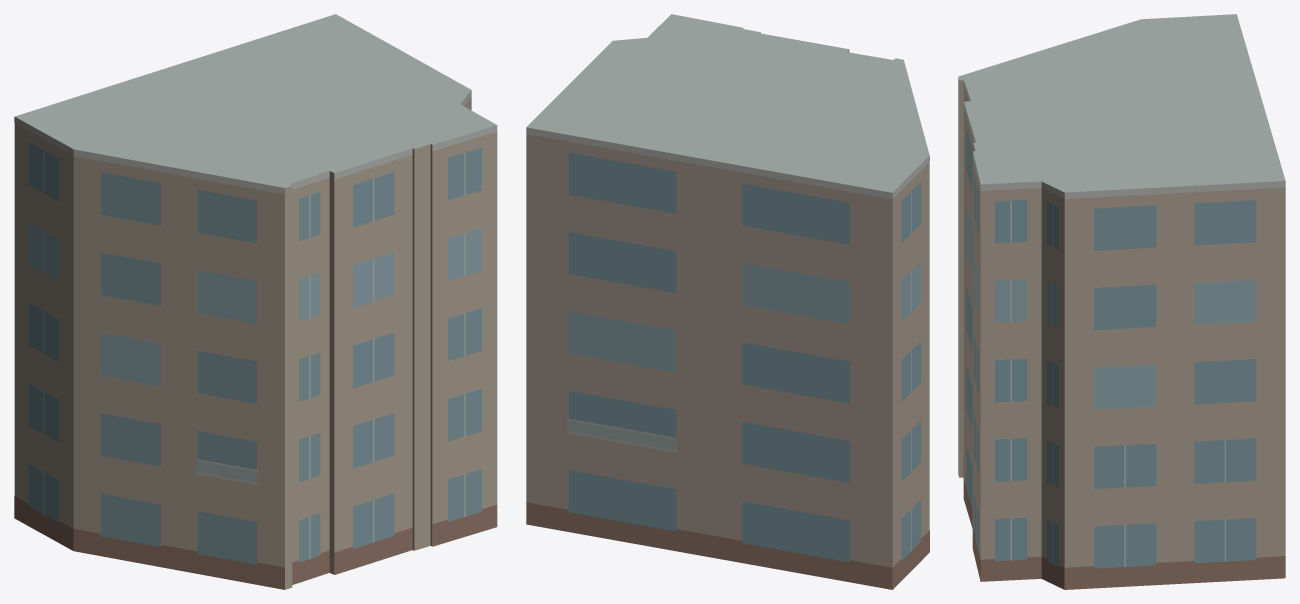
Rendered from survey-upis-32724275.glb.
3 renders of one model, left to right at view 1: azimuth 30°, elevation 25°; view 2: azimuth 150°, elevation 25°; view 3: azimuth 270°, elevation 25°, orthographic.
Visible parts, largest first — view 1: survey-upis-32724275.tmp; view 2: survey-upis-32724275.tmp; view 3: survey-upis-32724275.tmp.
Part boxes in pixels (box(x1,y1,x2,y2)): survey-upis-32724275.tmp: box(14, 14, 497, 589); survey-upis-32724275.tmp: box(526, 14, 929, 589); survey-upis-32724275.tmp: box(958, 14, 1285, 589).
Bounding box in the file's own units: 14.42 × 14.95 × 11.18.
